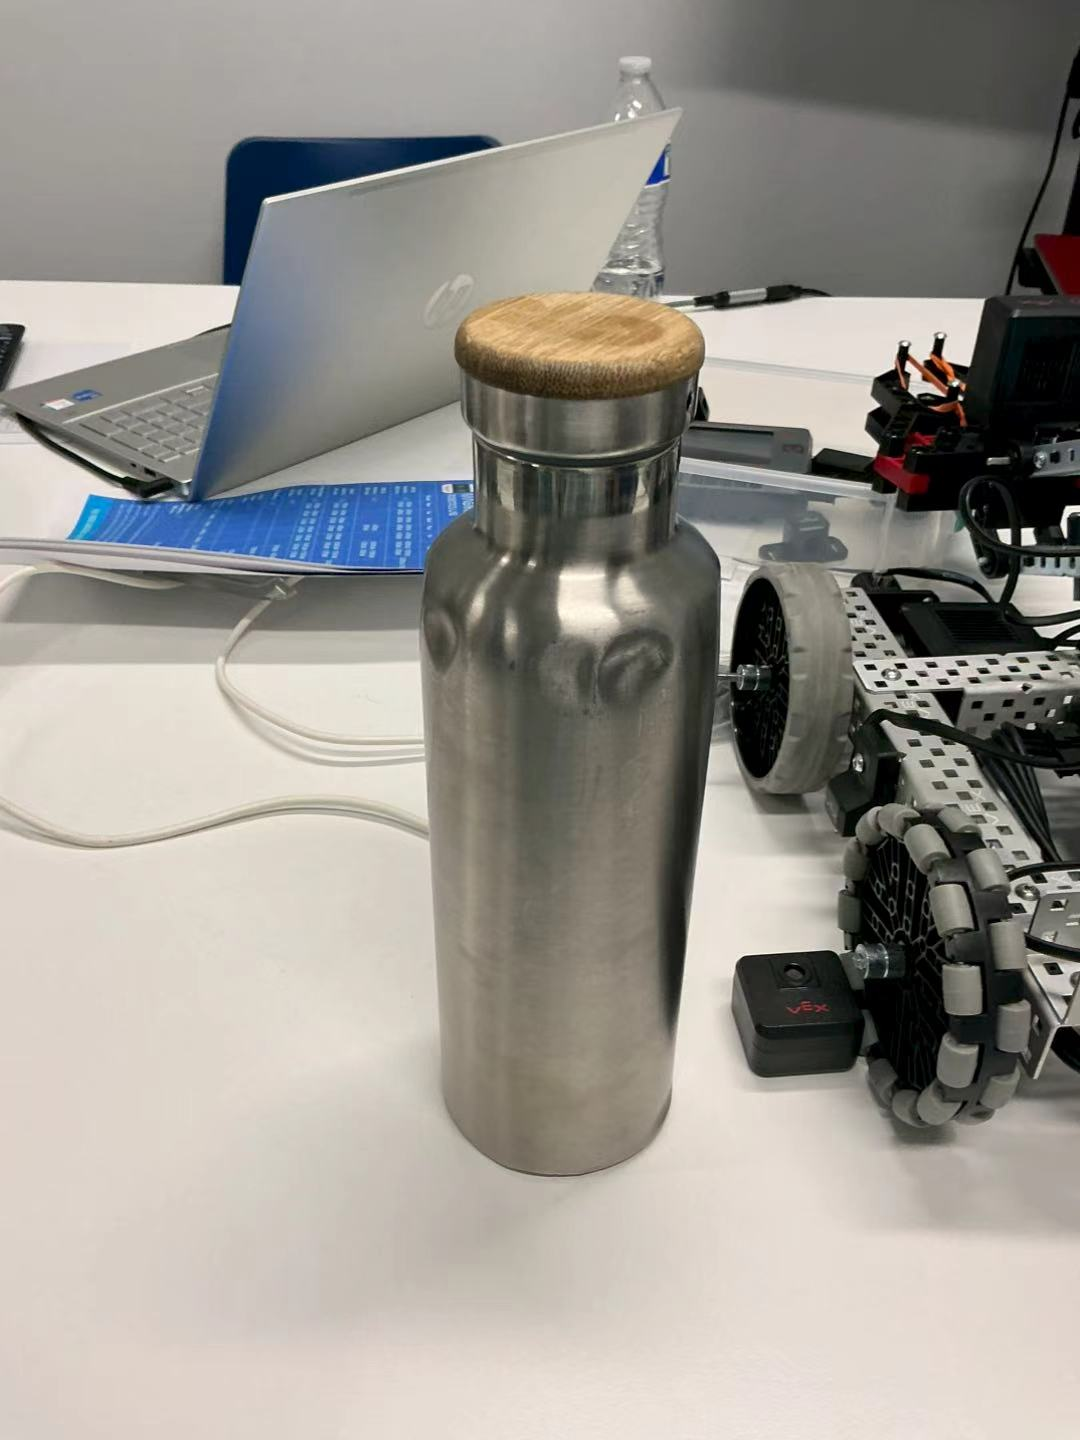Water_Bottle: (404, 290, 722, 1180)
